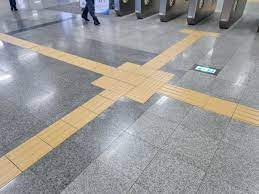guide_blocks: (95, 62, 174, 104), (176, 89, 259, 124), (45, 96, 111, 137), (1, 137, 52, 185), (40, 48, 84, 65), (1, 32, 36, 48), (181, 28, 217, 38)
